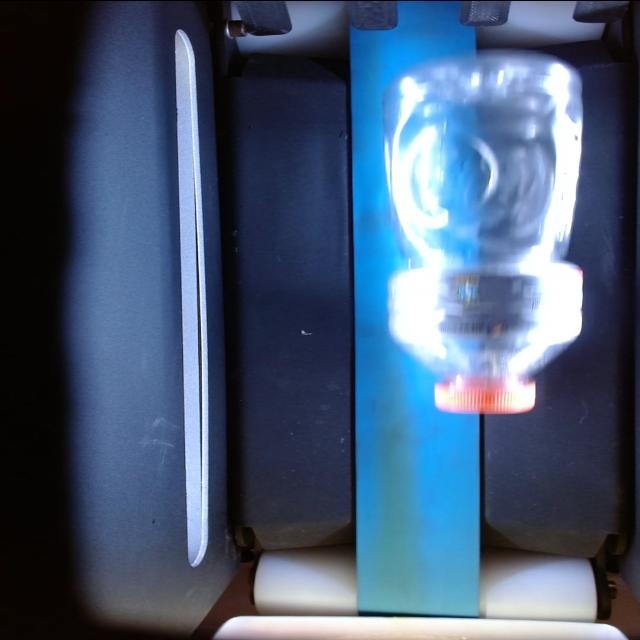bottle: (385, 51, 582, 413)
